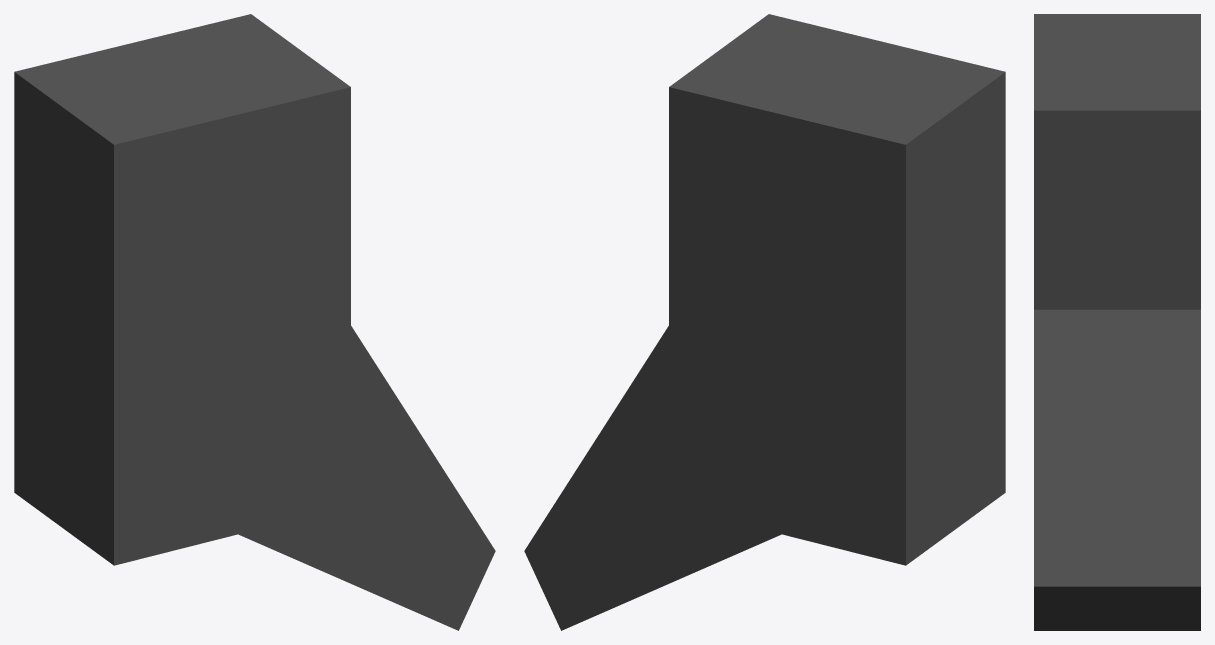
File: SM_HeavyWeapon2_01_2.glb
3 views of the same model, side by side, from view 1: azimuth 30°, elevation 25°; view 2: azimuth 150°, elevation 25°; view 3: azimuth 270°, elevation 25° (orthographic). The views are drawn at different scales.
Parts seen in each view (by area): view 1: SM_HeavyWeapon2_01_2; view 2: SM_HeavyWeapon2_01_2; view 3: SM_HeavyWeapon2_01_2.
Part boxes in pixels (x1=…): SM_HeavyWeapon2_01_2: x1=14, y1=14, x2=495, y2=630; SM_HeavyWeapon2_01_2: x1=524, y1=14, x2=1005, y2=630; SM_HeavyWeapon2_01_2: x1=1034, y1=14, x2=1200, y2=630.
Bounding box in the file's own units: 0.0211 × 0.0301 × 0.00957.
1 material, 1 textured.
